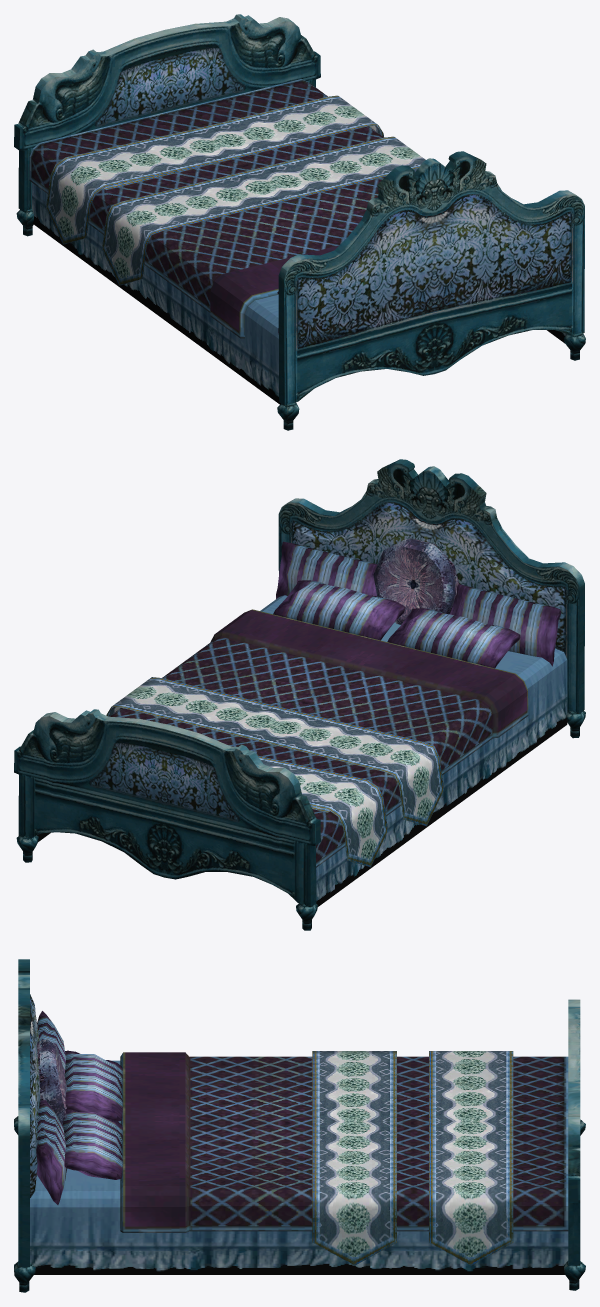
File: furni_0201204_01.FBX
3 views of the same model, one above another, from view 1: azimuth 30°, elevation 25°; view 2: azimuth 150°, elevation 25°; view 3: azimuth 270°, elevation 25° (orthographic). The views are drawn at different scales.
Parts seen in each view (by area): view 1: furni_0201204_01; view 2: furni_0201204_01; view 3: furni_0201204_01.
Boxes of the visible parts, x1=… form: furni_0201204_01: x1=14, y1=14, x2=585, y2=430; furni_0201204_01: x1=14, y1=459, x2=585, y2=930; furni_0201204_01: x1=14, y1=959, x2=585, y2=1292.
Size of the model in its own units: 164 by 119 by 253.
